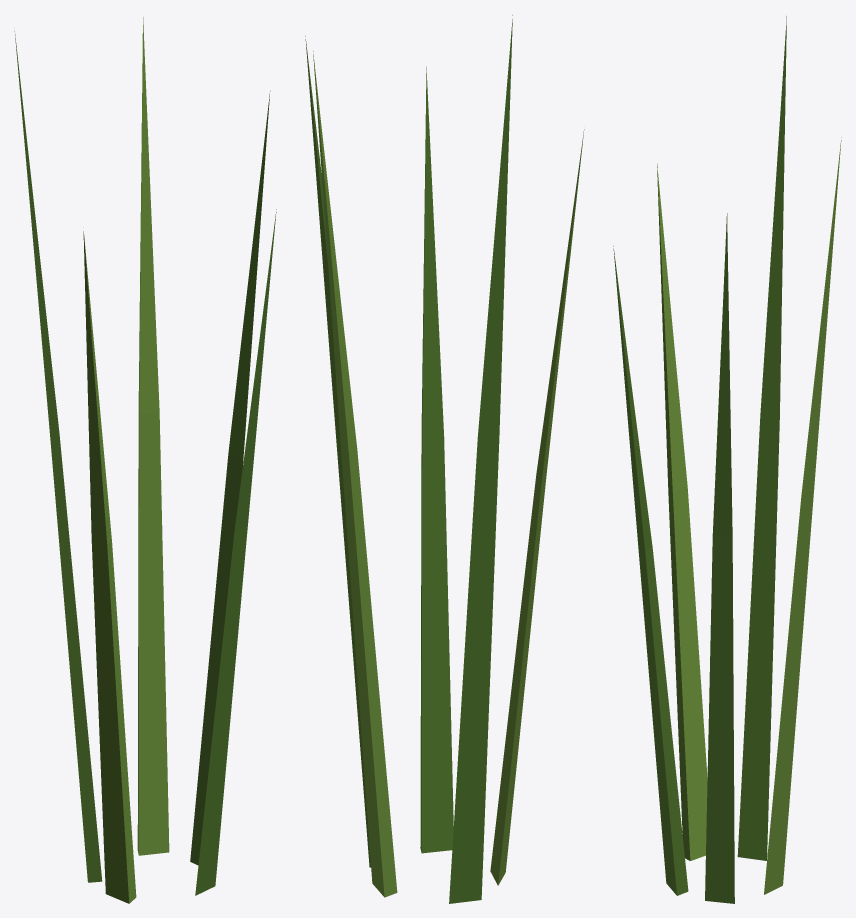
The model's file is grass_b.glb.
The picture shows the model from 3 angles, left to right: view 1: azimuth 30°, elevation 25°; view 2: azimuth 150°, elevation 25°; view 3: azimuth 270°, elevation 25°; orthographic projection. The views are drawn at different scales.
Visible parts, largest first — view 1: grass_b; view 2: grass_b; view 3: grass_b.
Boxes of the visible parts, <box> form: grass_b: <box>14,17,276,903</box>; grass_b: <box>305,15,584,903</box>; grass_b: <box>613,16,841,903</box>.
Bounding box in the file's own units: 0.225 × 0.8171 × 0.2076.
